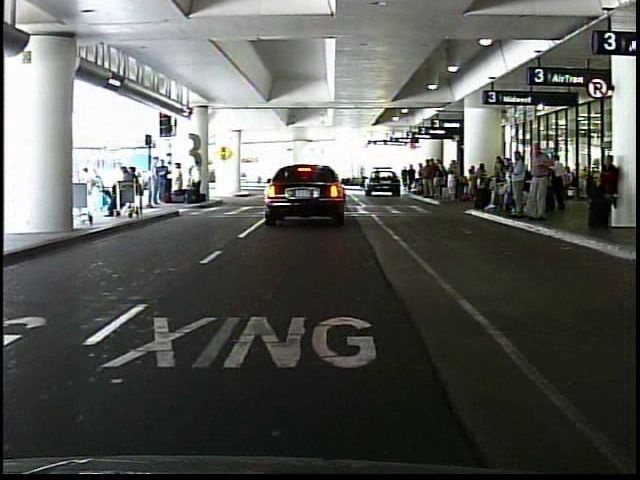person: (523, 136, 556, 227), (587, 151, 618, 229), (508, 148, 527, 222), (84, 158, 106, 215), (157, 156, 172, 204), (189, 158, 204, 202), (173, 160, 187, 203), (401, 164, 410, 191)
